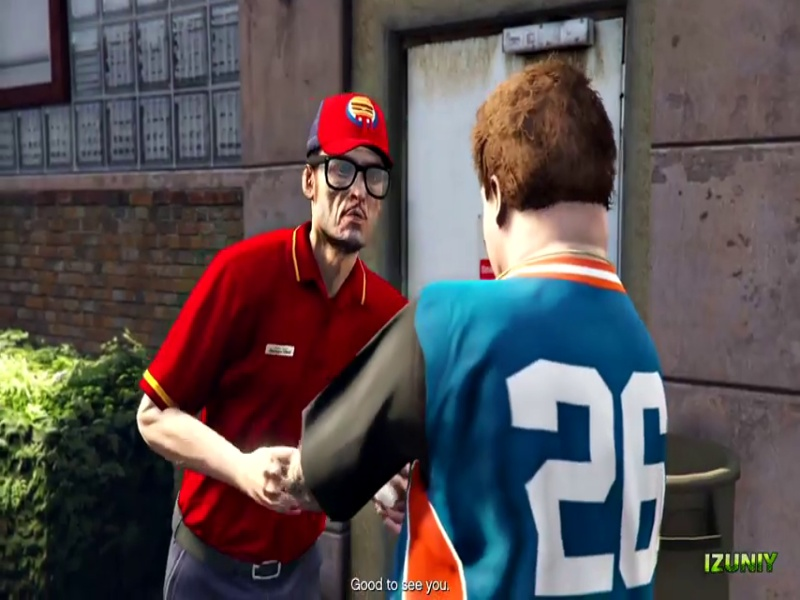human: (129, 93, 418, 598)
